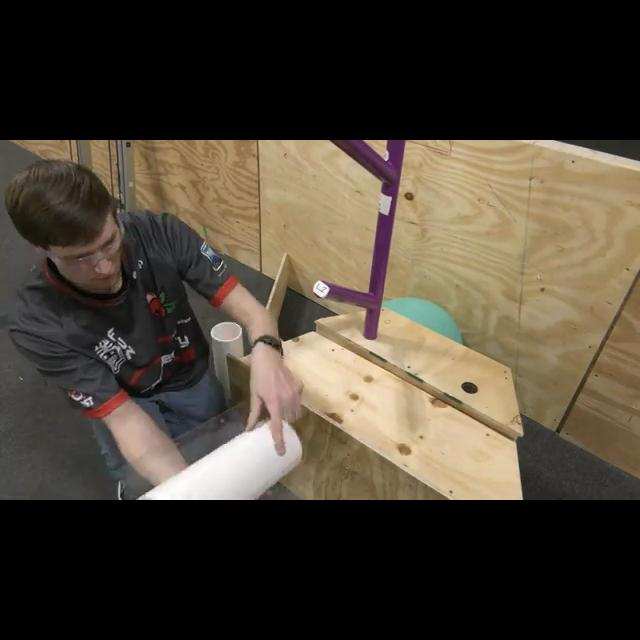CORAL: (136, 416, 304, 499), (211, 322, 245, 400)
